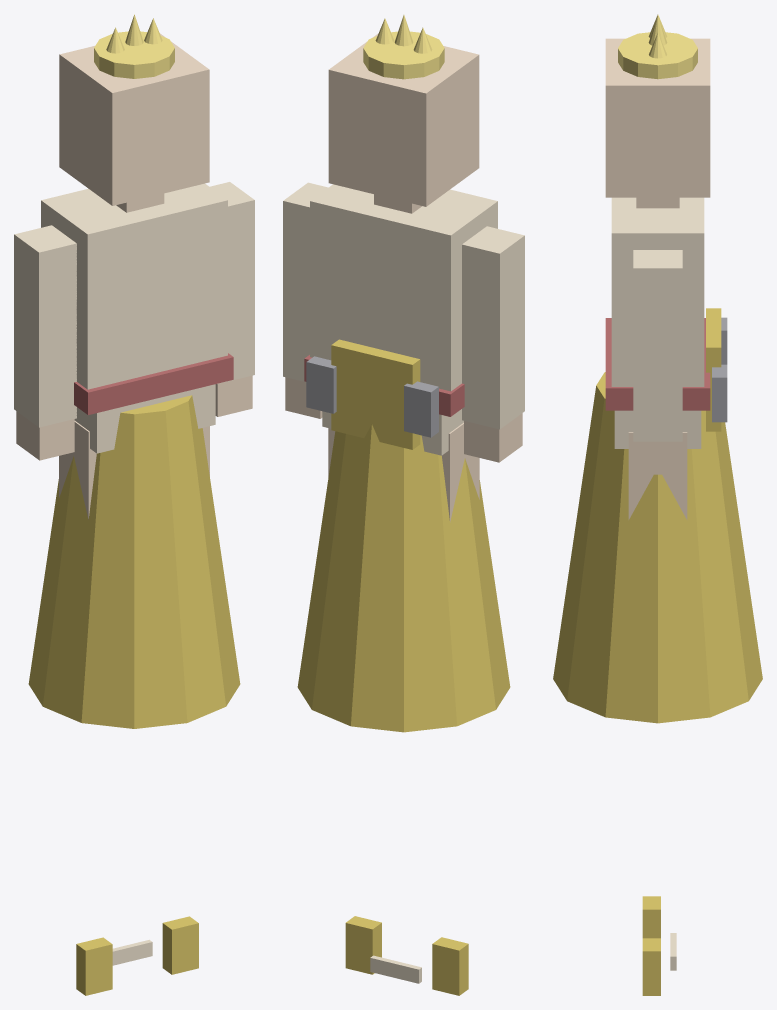
The model's file is hera.glb.
The picture shows the model from 3 angles, left to right: view 1: azimuth 30°, elevation 25°; view 2: azimuth 150°, elevation 25°; view 3: azimuth 270°, elevation 25°; orthographic projection.
Visible parts, largest first — view 1: outfit_robe_0, torso, head, arm_L_upper, arm_R_upper, outfit_belt_0, outfit_crown_0, hips, arm_L_hand, outfit_sandals_0, outfit_sandals_1, leg_L_shin (+2 smaller); view 2: outfit_robe_0, torso, head, arm_L_upper, outfit_robe_1, arm_R_upper, outfit_crown_0, arm_L_hand, outfit_sandals_0, outfit_belt_2, outfit_sandals_1, leg_L_shin (+5 smaller); view 3: outfit_robe_0, head, torso, arm_R_upper, outfit_crown_0, outfit_belt_0, leg_R_shin, arm_R_hand, hips, outfit_robe_1, outfit_sandals_1, outfit_belt_1 (+2 smaller).
Boxes of the visible parts, x1,y1,x2,y2 form: outfit_robe_0: (28,395,240,728); torso: (41,183,227,389); head: (59,33,209,205); arm_L_upper: (14,225,76,427); arm_R_upper: (210,182,254,383); outfit_belt_0: (74,353,233,414); outfit_crown_0: (94,31,174,78); hips: (74,384,215,453); arm_L_hand: (16,411,74,460); outfit_sandals_0: (76,937,112,995); outfit_sandals_1: (162,916,198,974); leg_L_shin: (59,421,96,519); outfit_robe_0: (297,424,510,732); torso: (310,184,497,391); head: (328,33,479,206); arm_L_upper: (462,226,524,429); outfit_robe_1: (331,339,420,449); arm_R_upper: (283,182,328,381); outfit_crown_0: (363,31,444,79); arm_L_hand: (464,413,522,462); outfit_sandals_0: (432,937,468,995); outfit_belt_2: (404,381,438,437); outfit_sandals_1: (345,916,381,974); leg_L_shin: (442,422,479,522); outfit_robe_0: (553,372,762,723); head: (605,38,710,197); torso: (611,197,704,386); arm_R_upper: (633,250,682,441); outfit_crown_0: (618,32,697,79); outfit_belt_0: (605,318,710,410); leg_R_shin: (628,432,687,519); arm_R_hand: (635,441,680,474); hips: (614,410,701,448); outfit_robe_1: (706,308,721,431); outfit_sandals_1: (642,938,660,995); outfit_belt_1: (712,364,727,422).
Bounding box in the file's own units: 0.8 × 3.41 × 0.68.
